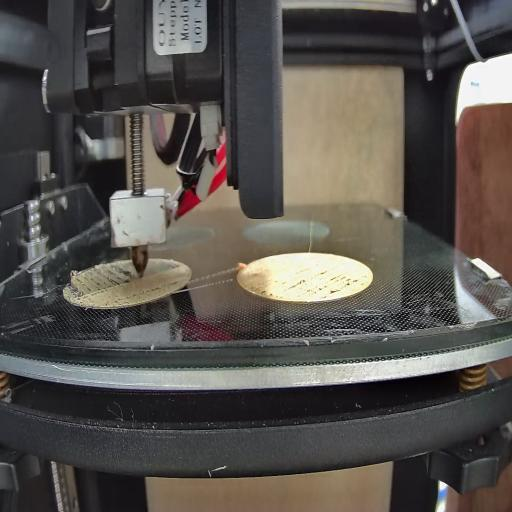under_extrusion: (246, 268, 368, 299), (65, 259, 136, 292), (144, 275, 181, 299)
